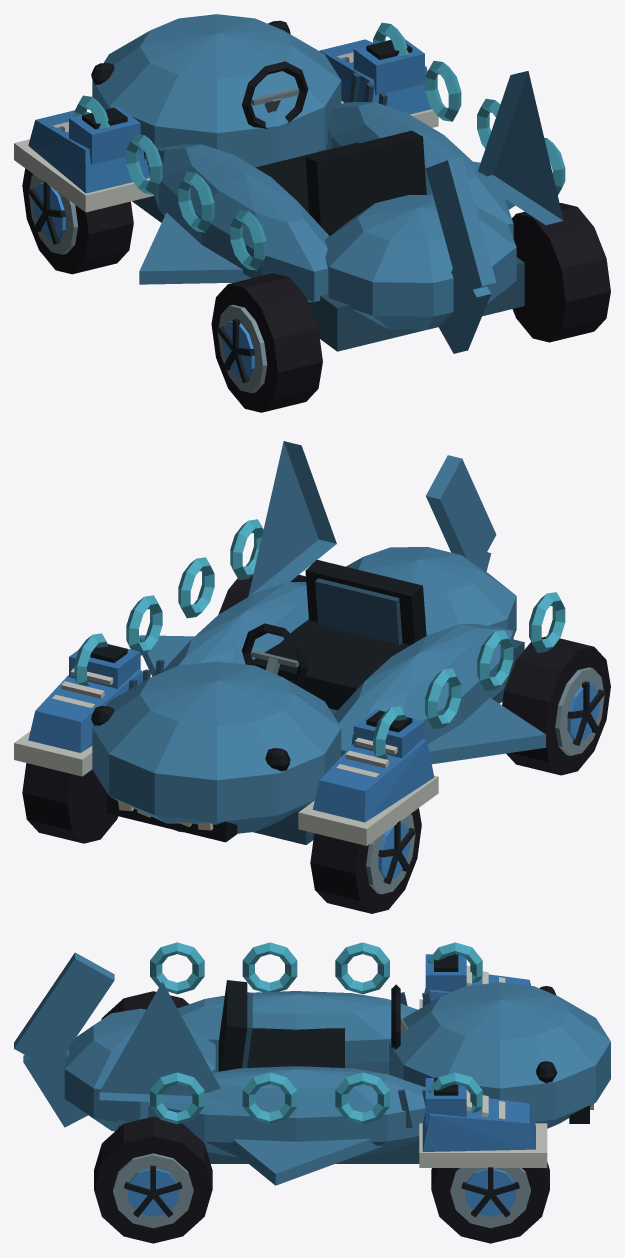
File: kart.glb
The picture shows the model from 3 angles, top to bottom: view 1: azimuth 30°, elevation 25°; view 2: azimuth 150°, elevation 25°; view 3: azimuth 270°, elevation 25°; orthographic projection. The views are drawn at different scales.
Parts seen in each view (by area): view 1: identity-beast-shark-blunt-head-dorsal-fin-and-forked-tail, identity-beast-motif-sneakers, wheel-rear-left, identity-beast-driver-cockpit, wheel-rear-right, identity-beast-motif-water, wheel-front-left; view 2: identity-beast-shark-blunt-head-dorsal-fin-and-forked-tail, identity-beast-motif-sneakers, identity-beast-driver-cockpit, wheel-rear-left, identity-beast-motif-water, wheel-front-left, wheel-front-right, wheel-rear-right; view 3: identity-beast-shark-blunt-head-dorsal-fin-and-forked-tail, wheel-rear-right, identity-beast-motif-water, identity-beast-motif-sneakers, wheel-front-right, identity-beast-driver-cockpit, wheel-rear-left.
Boxes of the visible parts, bbox=[...] form: identity-beast-shark-blunt-head-dorsal-fin-and-forked-tail: bbox=[91, 14, 563, 353]; identity-beast-motif-sneakers: bbox=[14, 39, 438, 212]; wheel-rear-left: bbox=[211, 273, 322, 412]; identity-beast-driver-cockpit: bbox=[242, 61, 426, 235]; wheel-rear-right: bbox=[512, 203, 610, 342]; identity-beast-motif-water: bbox=[74, 22, 565, 270]; wheel-front-left: bbox=[22, 168, 133, 274]; identity-beast-shark-blunt-head-dorsal-fin-and-forked-tail: bbox=[91, 441, 545, 844]; identity-beast-motif-sneakers: bbox=[14, 644, 438, 845]; identity-beast-driver-cockpit: bbox=[242, 560, 426, 710]; wheel-rear-left: bbox=[502, 636, 610, 775]; identity-beast-motif-water: bbox=[74, 519, 565, 759]; wheel-front-left: bbox=[310, 808, 421, 913]; wheel-front-right: bbox=[22, 763, 118, 843]; wheel-rear-right: bbox=[218, 574, 306, 614]; identity-beast-shark-blunt-head-dorsal-fin-and-forked-tail: bbox=[14, 952, 610, 1185]; wheel-rear-right: bbox=[94, 1116, 212, 1243]; identity-beast-motif-water: bbox=[150, 942, 482, 1124]; identity-beast-motif-sneakers: bbox=[419, 954, 547, 1167]; wheel-front-right: bbox=[431, 1162, 549, 1243]; identity-beast-driver-cockpit: bbox=[218, 980, 407, 1071]; wheel-rear-left: bbox=[101, 991, 188, 1019].
Size of the model in its own units: 2.26 by 1.4 by 3.22.
